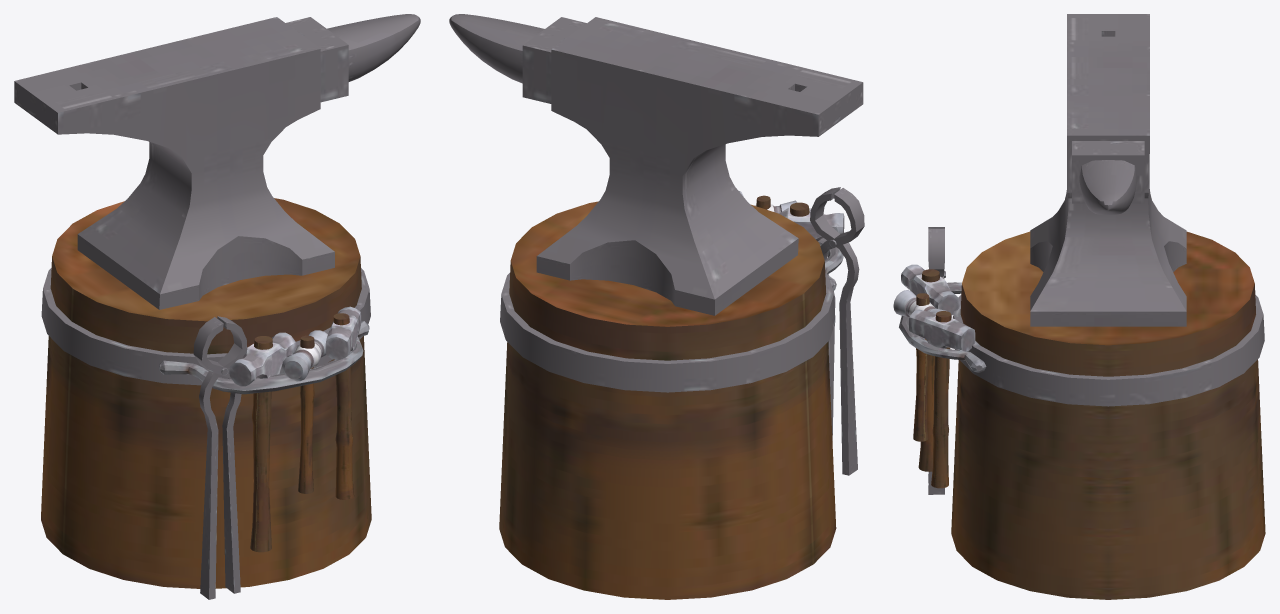
Rendered from anvil-C2klw6Lu.glb.
The picture shows the model from 3 angles, left to right: view 1: azimuth 30°, elevation 25°; view 2: azimuth 150°, elevation 25°; view 3: azimuth 270°, elevation 25°; orthographic projection. The views are drawn at different scales.
Visible parts, largest first — view 1: Anvil_Log; view 2: Anvil_Log; view 3: Anvil_Log.
Boxes of the visible parts, x1,y1,x2,y2 form: Anvil_Log: [14, 14, 420, 599]; Anvil_Log: [449, 14, 864, 599]; Anvil_Log: [893, 14, 1265, 599].
Size of the model in its own units: 1.49 by 1.72 by 1.31.
Materials: 3 (3 with a texture image).
